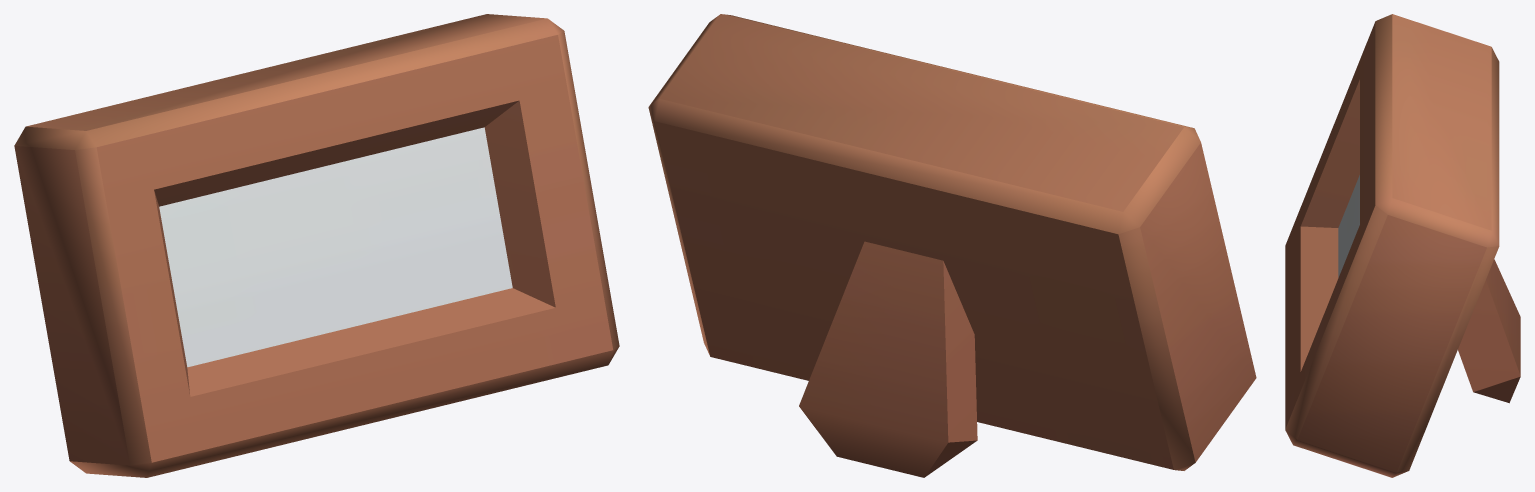
Rendered from pictureframe-standing-b.glb.
The picture shows the model from 3 angles, left to right: view 1: azimuth 30°, elevation 25°; view 2: azimuth 150°, elevation 25°; view 3: azimuth 270°, elevation 25°; orthographic projection. The views are drawn at different scales.
Visible parts, largest first — view 1: pictureframe_standing_B; view 2: pictureframe_standing_B; view 3: pictureframe_standing_B.
Part boxes in pixels (x1,y1,x2,y2): pictureframe_standing_B: (14, 14, 619, 477); pictureframe_standing_B: (648, 14, 1256, 477); pictureframe_standing_B: (1285, 14, 1520, 477).
Bounding box in the file's own units: 0.7 × 0.4681 × 0.3571.
1 material, 1 textured.
